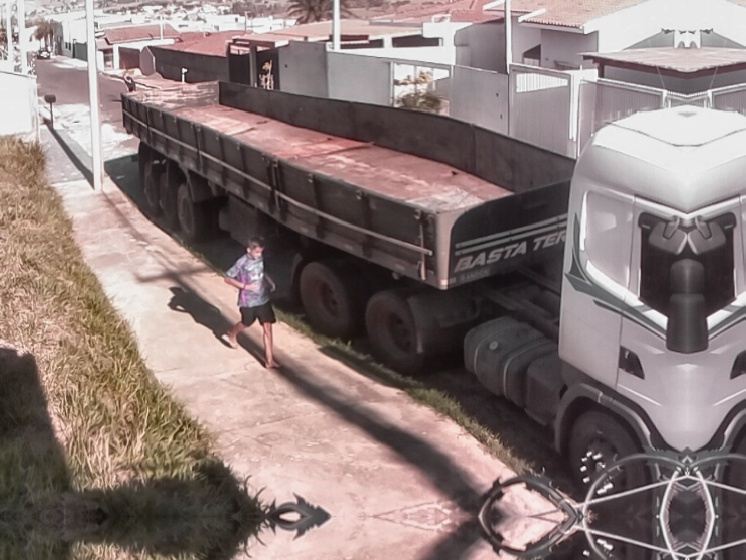person: (222, 234, 282, 371), (122, 71, 137, 95)
